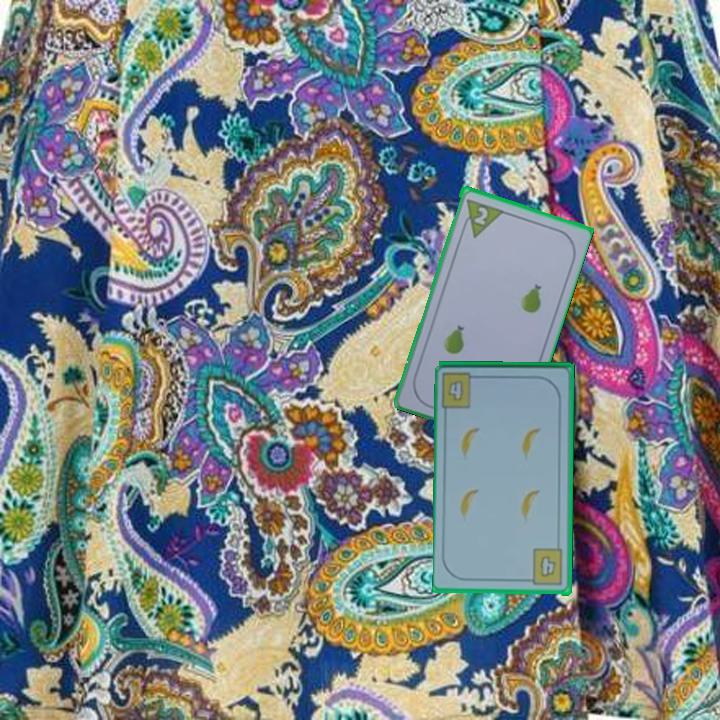2p: (457, 194, 505, 240)
4b: (439, 368, 483, 410), (523, 546, 565, 588)
